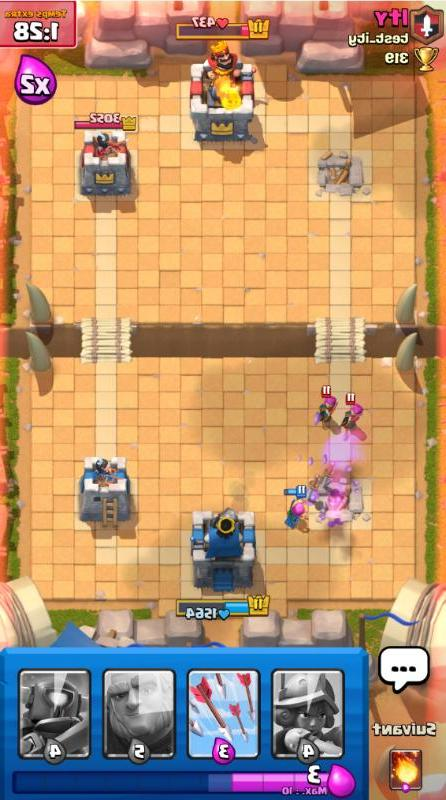archere: (338, 393, 364, 442), (284, 484, 306, 530), (319, 385, 338, 430)
